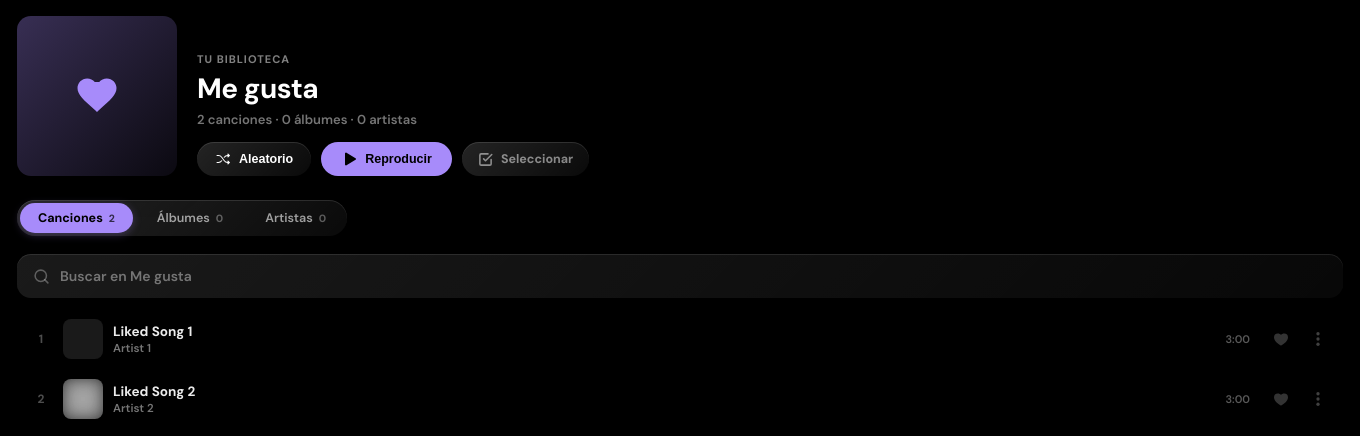
Test: LikedView › removes the selected songs from Me gusta (unlike, sin confirmar)
Click the button "Seleccionar". click: (526, 159)
box: [462, 142, 589, 176]
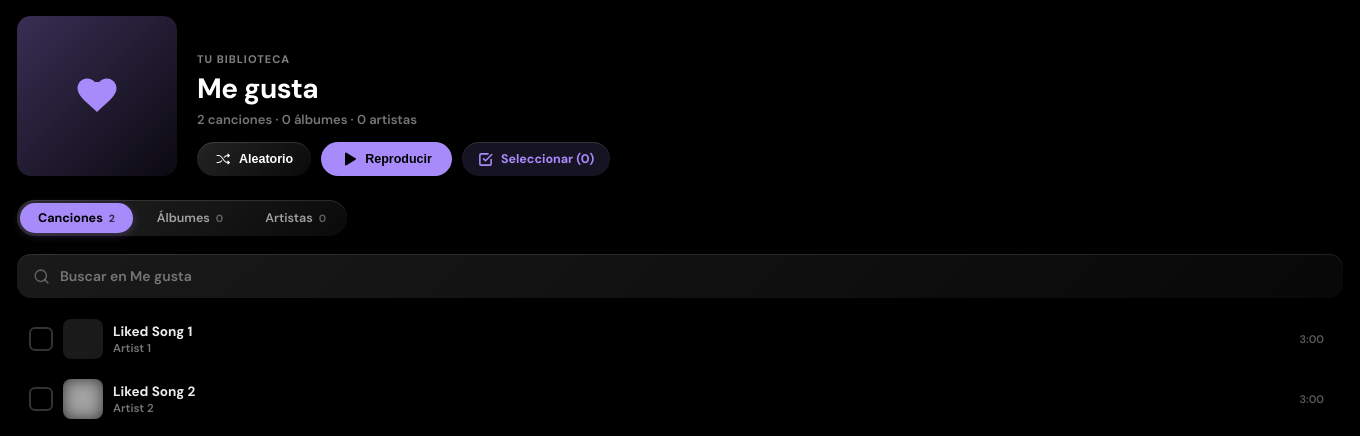
Click the text "Liked Song 1". click: (153, 331)
box: [113, 322, 192, 340]
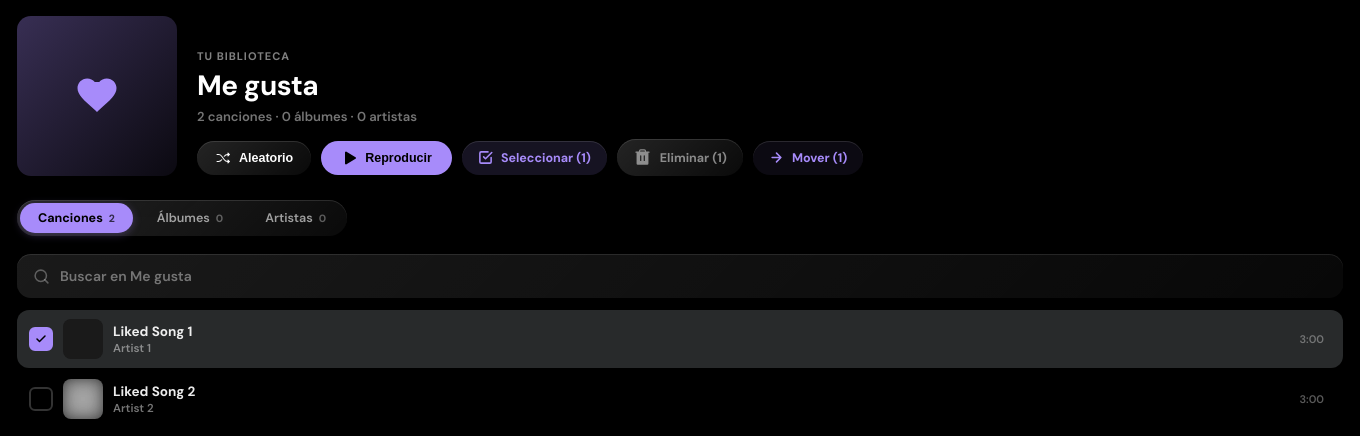
Expected: the button "Eliminar (1)" is shown
Click the button "Eliminar (1)". click: (680, 158)
box: [617, 139, 743, 176]
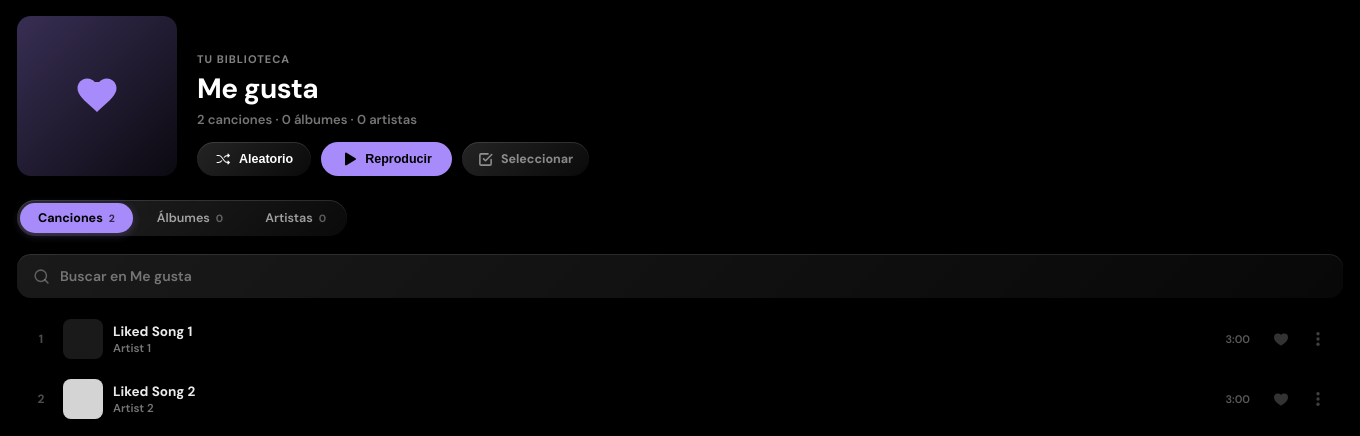
Expected: the button "Eliminar (1)" is gone
